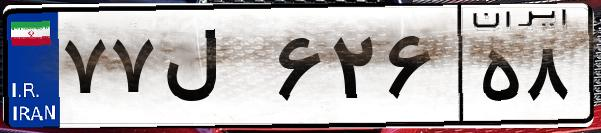2: (330, 28, 385, 110)
5: (475, 38, 525, 113)
6: (270, 28, 330, 110), (385, 28, 445, 110)
7: (57, 26, 110, 100), (110, 28, 158, 98)
8: (525, 38, 570, 115)
ل: (158, 20, 270, 120)
